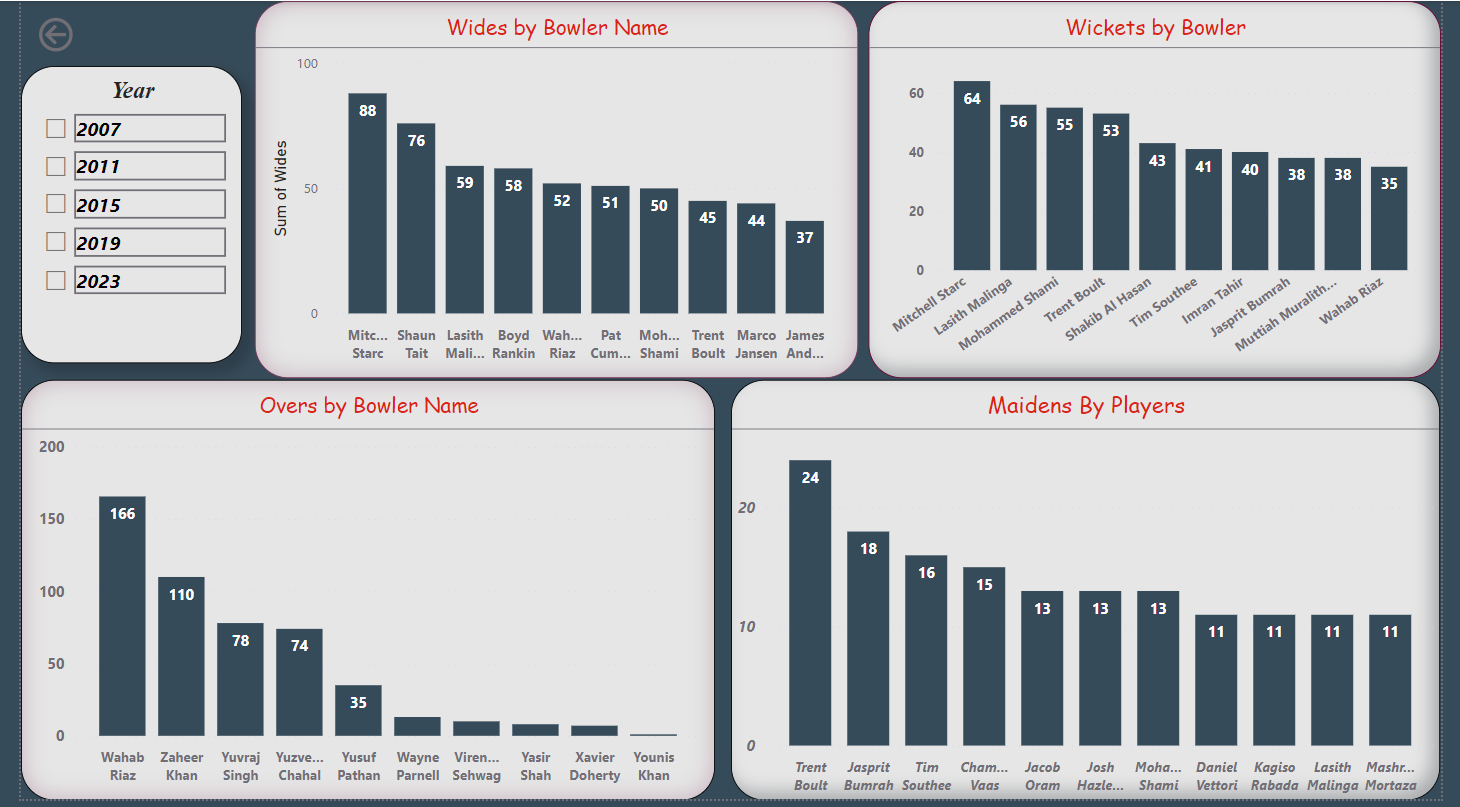

Layout of this report page (visuals, bound fields, positions):
{"tool":"powerbi","page":{"name":"Bowler Contribution","canvas":[1280,720],"ordinal":6},"visuals":[{"type":"slicer","title":"Year","fields":{"Values":["Complte_Bowling_Data_ 2007_To_2.Year"]},"box":[0,58.7,199.3,267.7],"z":0},{"type":"columnChart","title":"Wickets by Bowler","fields":{"Category":["Complte_Bowling_Data_ 2007_To_2.Bowler Name"],"Y":["Sum(Complte_Bowling_Data_ 2007_To_2.Wickets)"]},"box":[764,0,515.9,339.8],"z":1000},{"type":"columnChart","title":"Maidens By Players","fields":{"Category":["Complte_Bowling_Data_ 2007_To_2.Bowler Name"],"Y":["Sum(Complte_Bowling_Data_ 2007_To_2.Maidens)"]},"box":[640.5,341.1,639.3,378.9],"z":2000},{"type":"actionButton","box":[11,9.8,100.2,40.3],"z":3000},{"type":"columnChart","title":"Overs by Bowler Name","fields":{"Category":["Complte_Bowling_Data_ 2007_To_2.Bowler Name"],"Y":["Sum(Complte_Bowling_Data_ 2007_To_2.Overs)"]},"box":[0,341.1,625.9,378.9],"z":4000},{"type":"columnChart","title":"Wides by Bowler Name","fields":{"Category":["Complte_Bowling_Data_ 2007_To_2.Bowler Name"],"Y":["Sum(Complte_Bowling_Data_ 2007_To_2.Wides)"]},"box":[210.3,0,544,339.8],"z":5000}]}

Visuals, with their boxes in screenshot pixels (x1, y1, x2, y2), scaled from the page's 1280x720 canvas onto the 1460x807 screenshot:
"Year" slicer: 0,66,227,366
"Wickets by Bowler" columnChart: 871,0,1459,381
"Maidens By Players" columnChart: 731,382,1459,806
actionButton: 13,11,127,56
"Overs by Bowler Name" columnChart: 0,382,714,806
"Wides by Bowler Name" columnChart: 240,0,860,381
